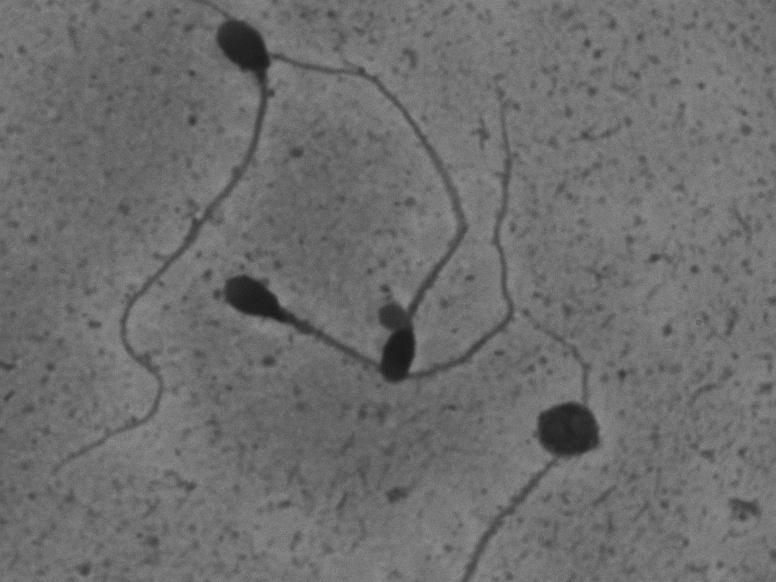Abnormal: (45, 11, 275, 483), (217, 67, 538, 398)
